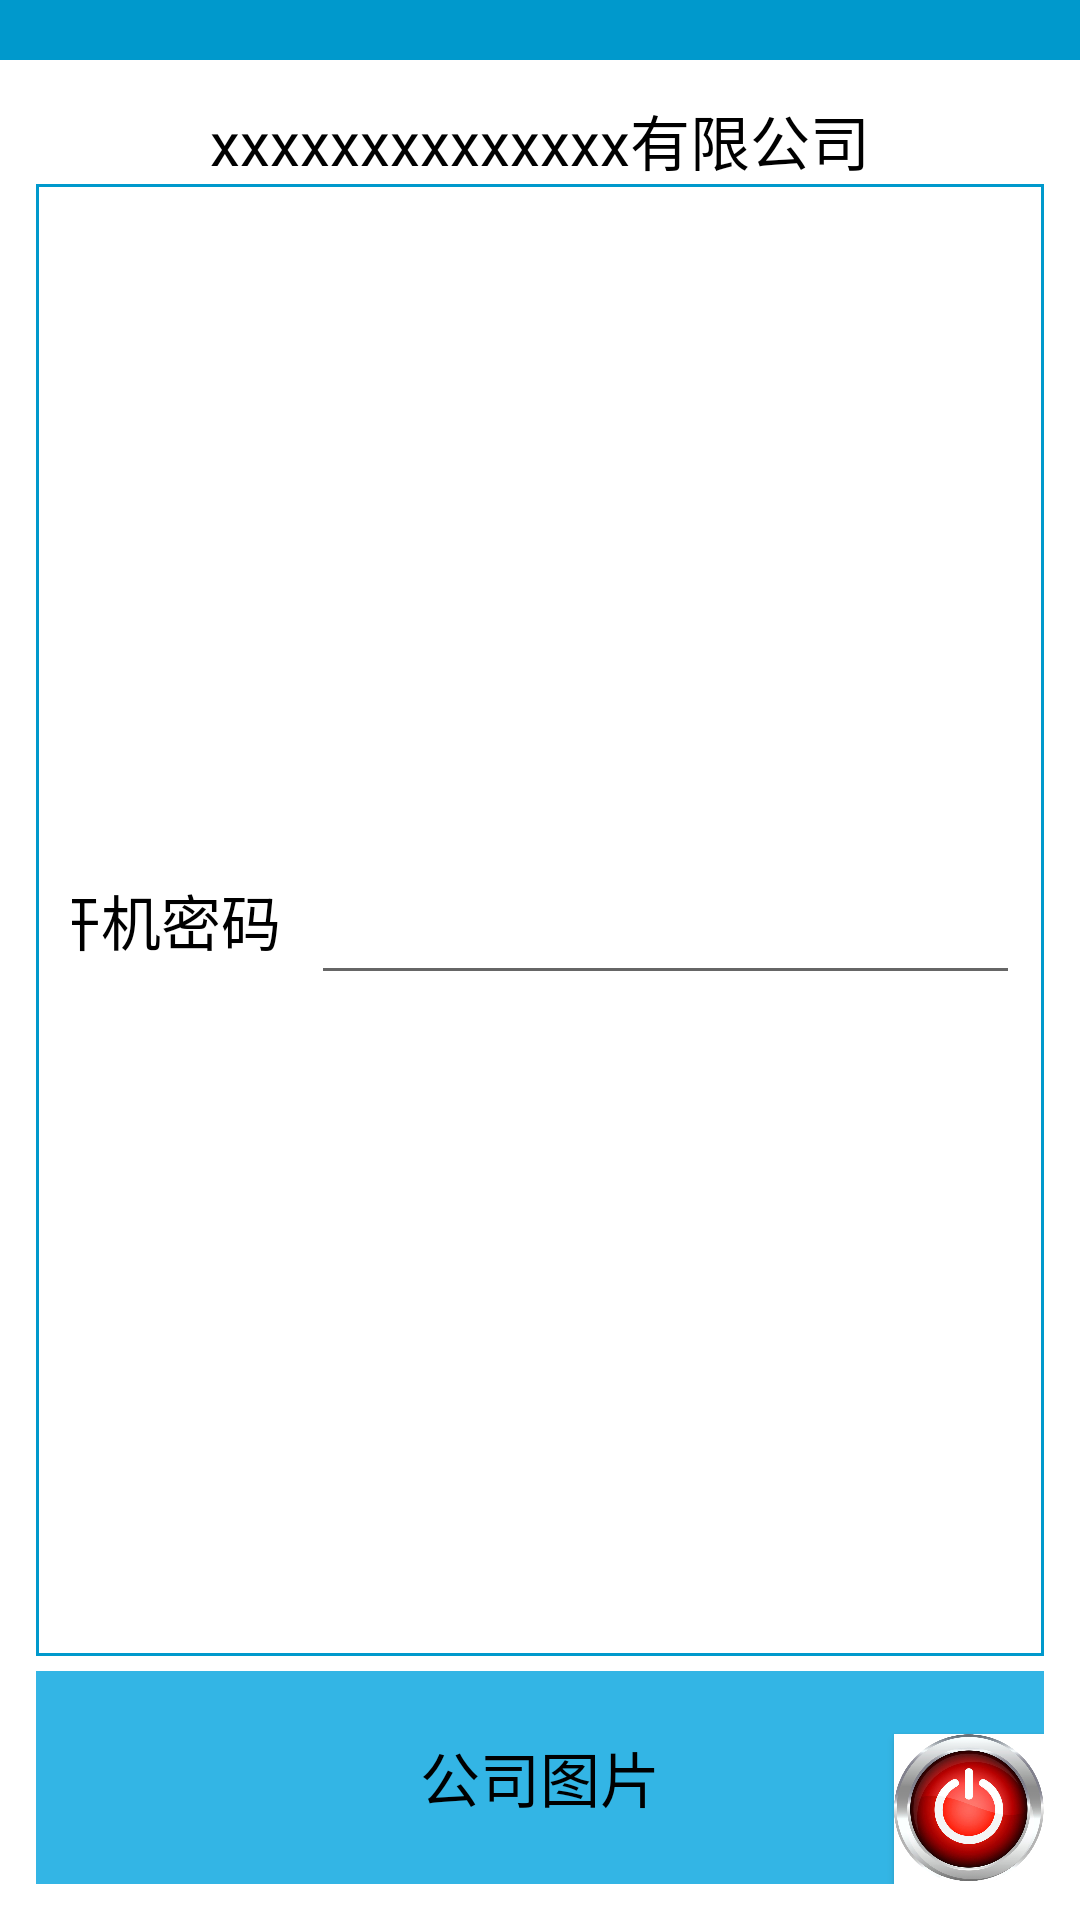

Point at icon controls on the screen. Image size 1080 × 1920, points as (x=x, y=y).
close: (x=969, y=1807)
